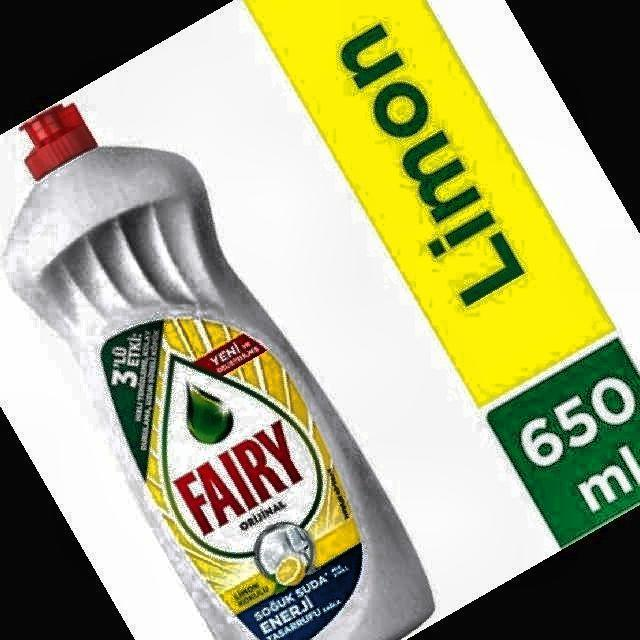plastic: (9, 104, 432, 639)
